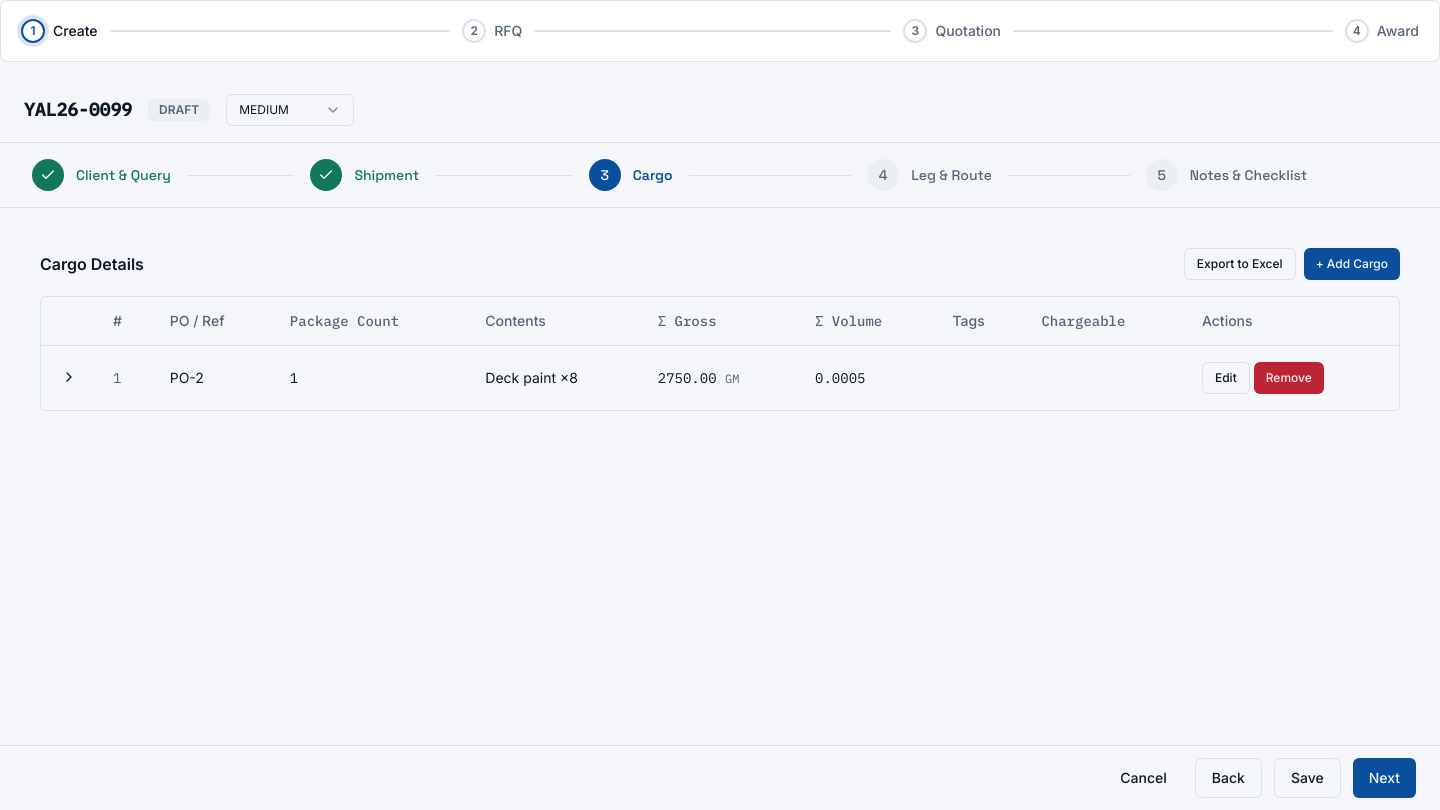
Test: Step3Cargo › converts non-canonical units (MM/GM) for display instead of echoing raw canonical cm/kg
Check: the text "YAL26-0099" is shown, box 24,98 -> 132,121
Click the button "3 Cargo" at (631, 175), box 581,155 -> 681,195
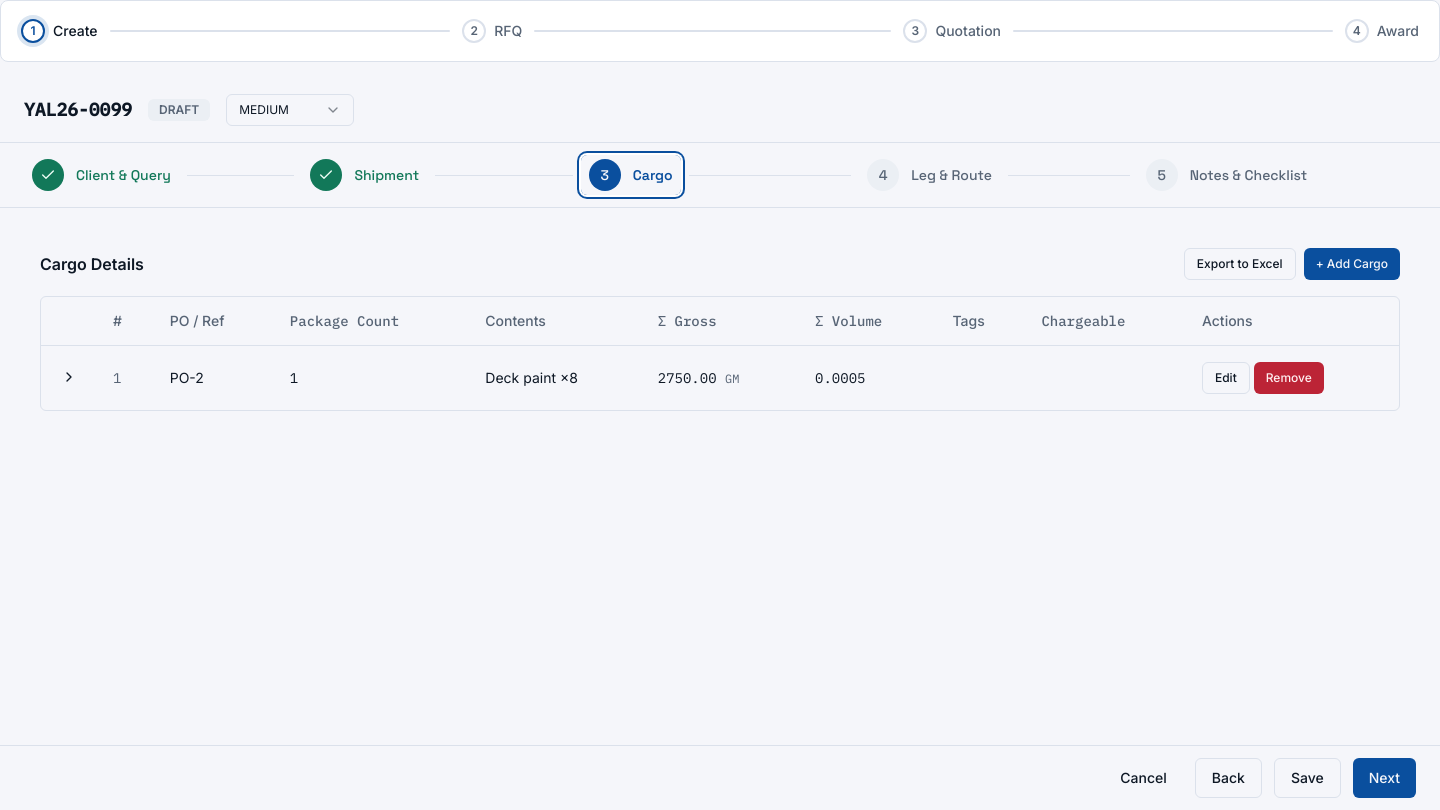
Check: the text "2750.00" is shown, box 658,368 -> 716,386
Check: the text "GM" is shown, box 725,370 -> 739,386
Click the button named "Expand cargo PO-2" at (69, 377), box 57,365 -> 81,389
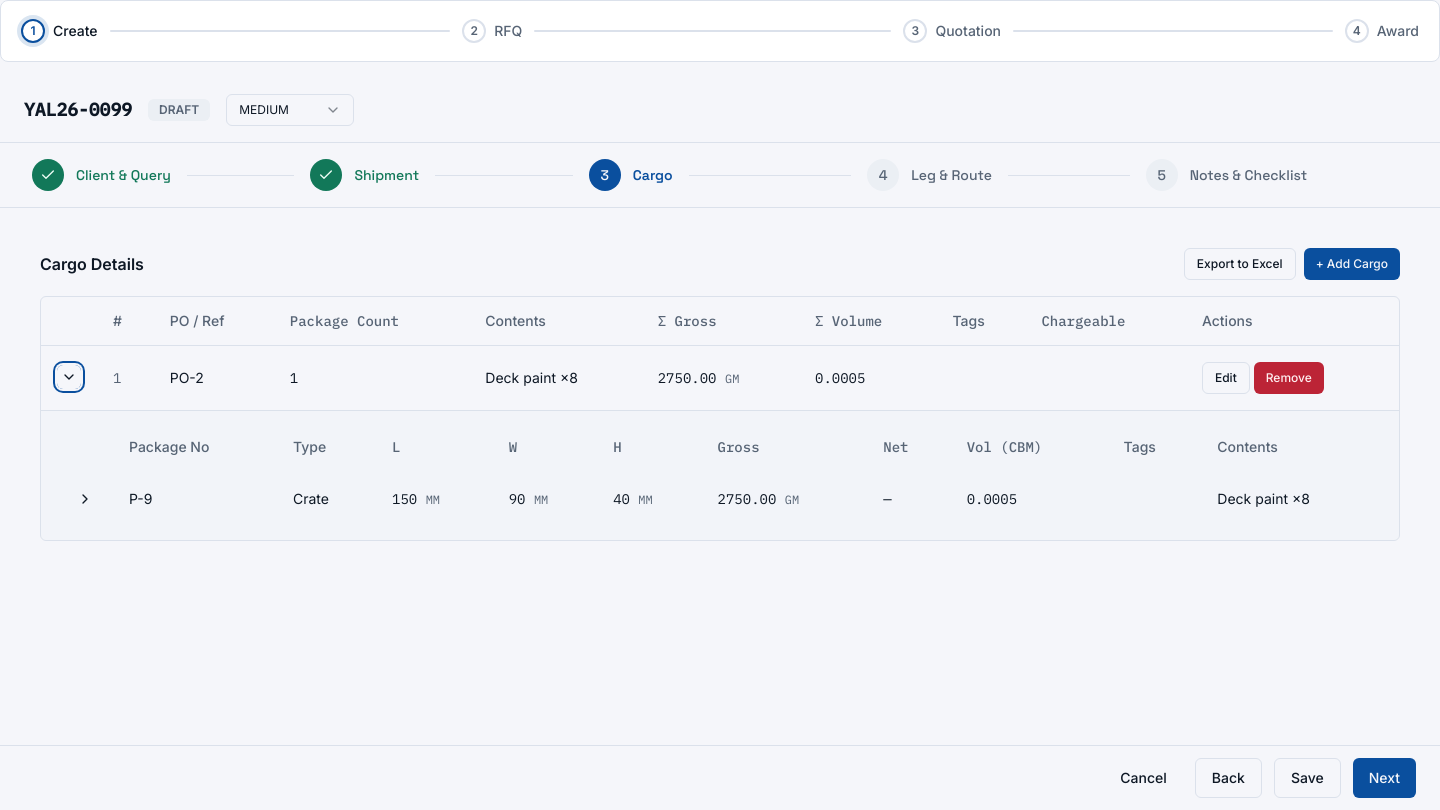
Check: the text "150" is shown, box 392,490 -> 417,508
Check: the text "90" is shown, box 509,490 -> 526,508
Check: the text "40" is shown, box 613,490 -> 630,508
